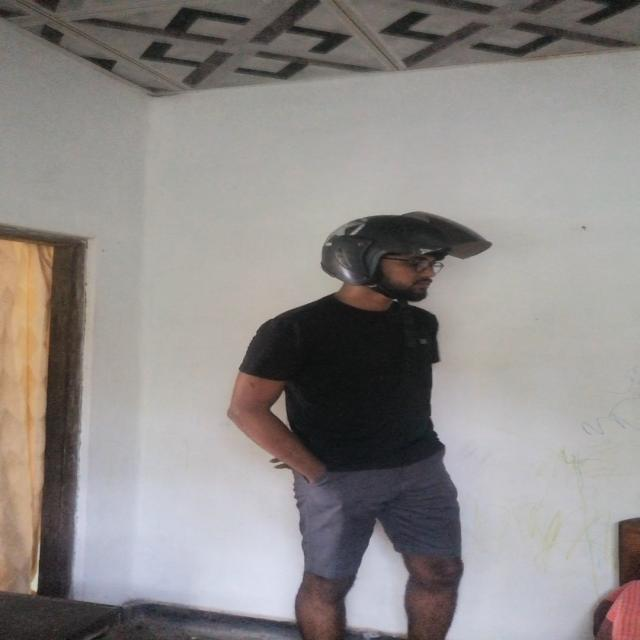Helmet_Wearer: (305, 209, 498, 316)
Person: (242, 210, 506, 640)
